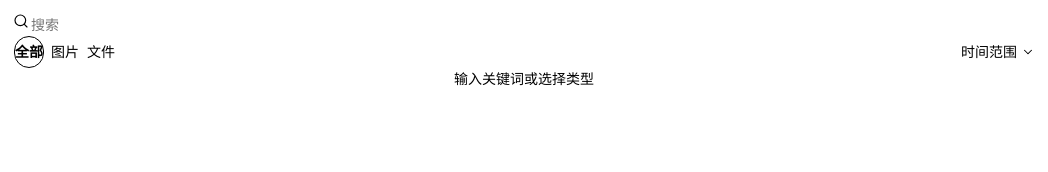
it: FlareSearchPanel › offers a retry after a failure and resets when the host resets its search
The width and height of the screenshot is (1048, 172).
Type "发版" into the search field with placeholder "搜索" at x=532, y=24, box [29,14,1035,35]
Wait 300 ms
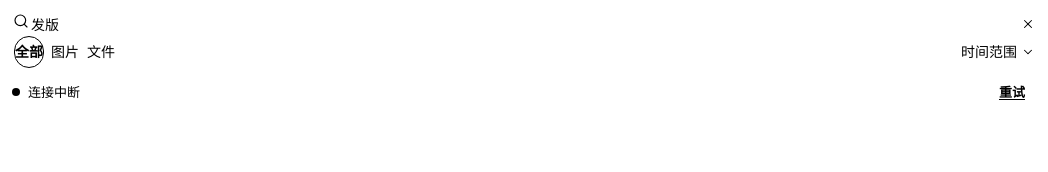
Click the button "重试" at x=1012, y=92, box [988,68,1036,116]
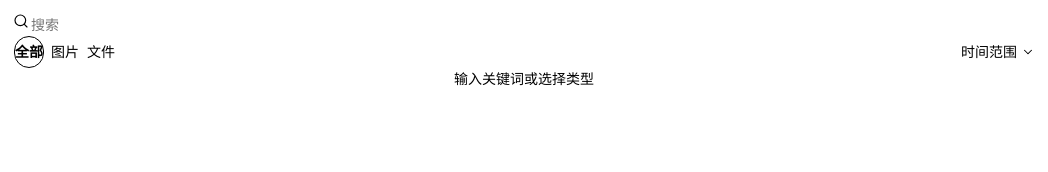
expect the search field with placeholder "搜索" is empty: met, box [29,14,1035,35]
expect the text "输入关键词或选择类型" is shown: met, box [454,69,594,88]
